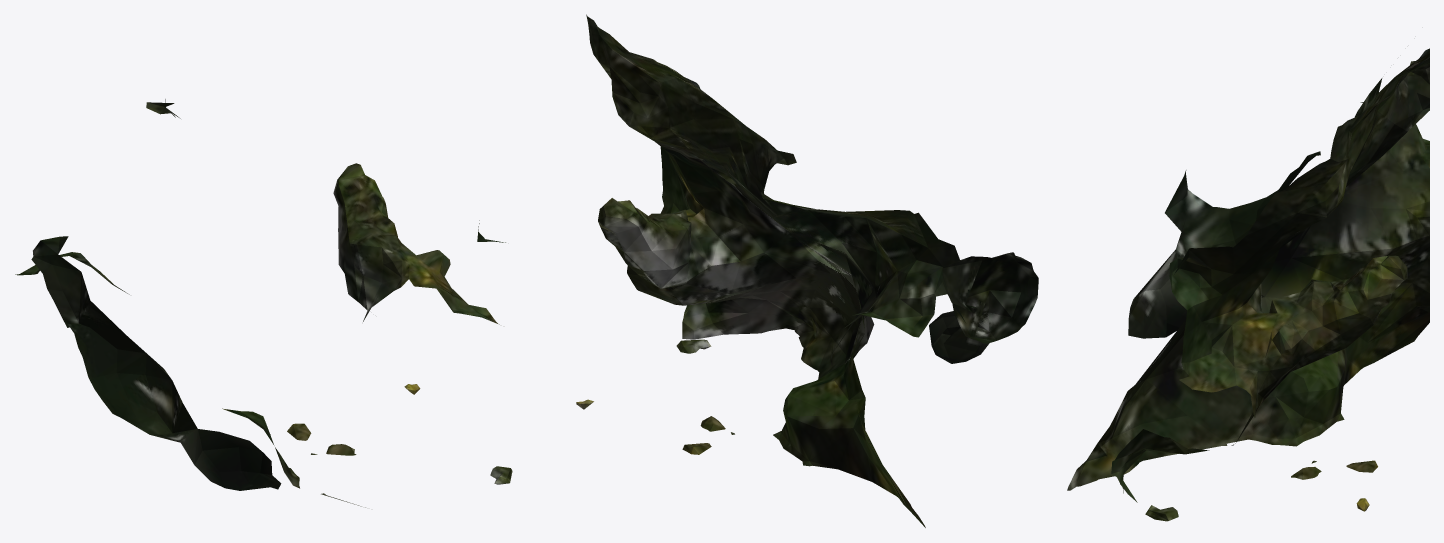
3 views of the same model, side by side, from view 1: azimuth 30°, elevation 25°; view 2: azimuth 150°, elevation 25°; view 3: azimuth 270°, elevation 25° (orthographic).
Bounding box in the file's own units: 1.67 × 1.67 × 1.37.
4 materials, 4 textured.
